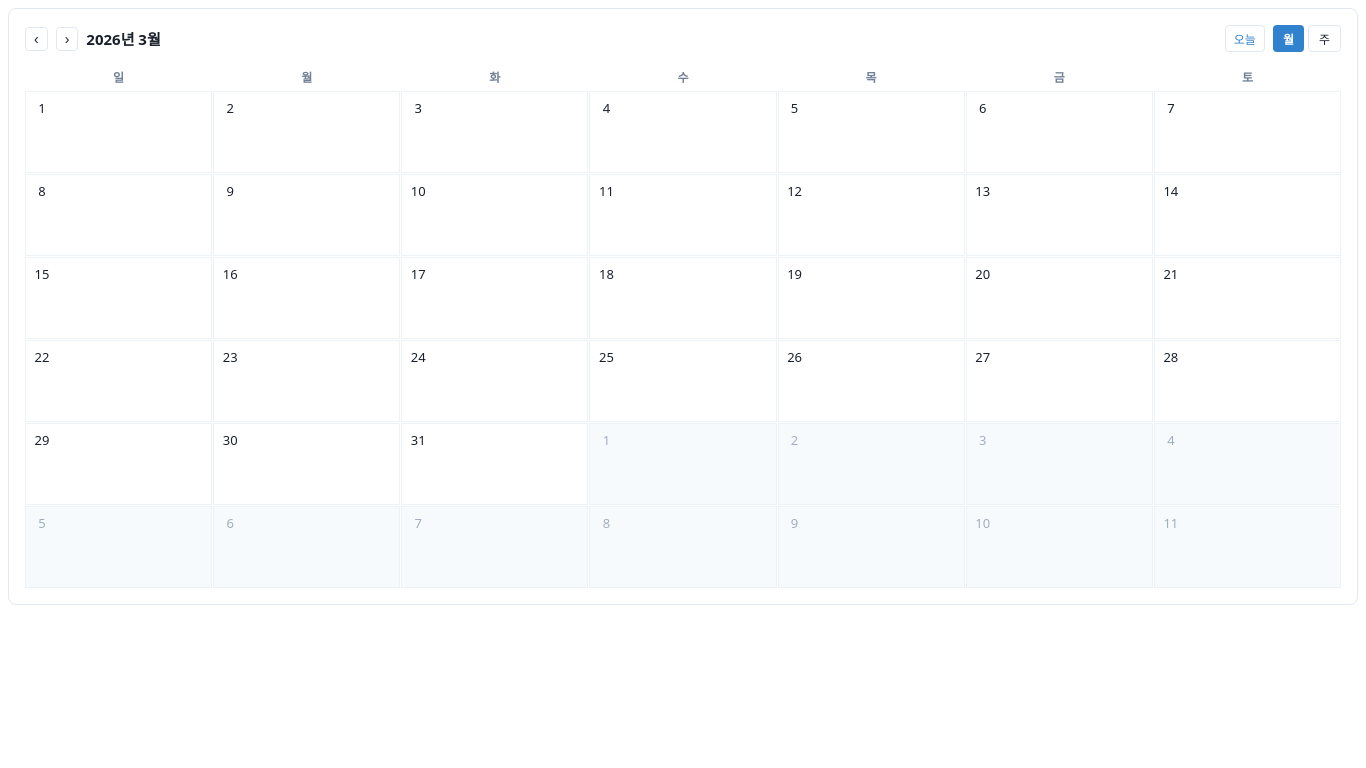
Test case: Calendar component › navigation › prev button navigates to previous month
Expected: the text "2026년 3월" is shown, [86,28,161,49]
Click the button named "이전": (36, 38) [25,26,48,50]
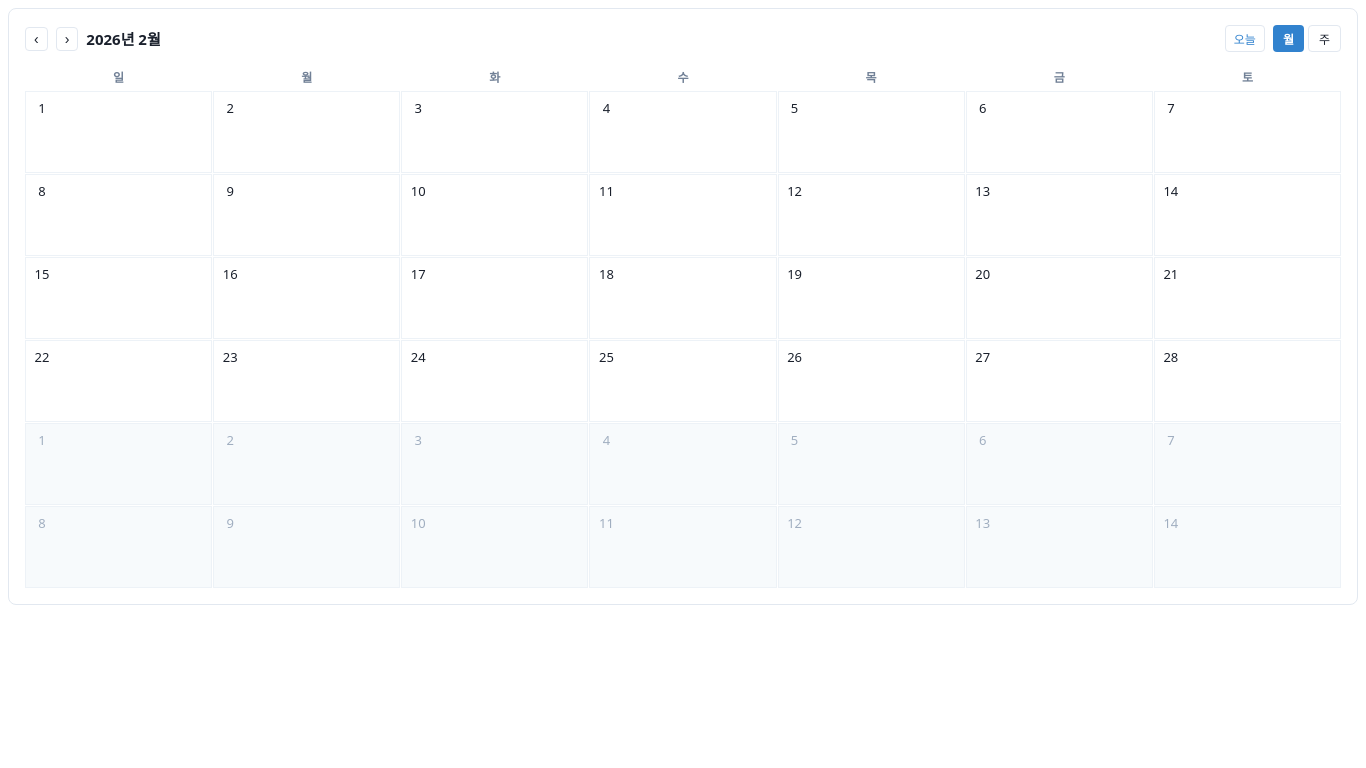
Expected: the text "2026년 2월" is shown, [86,28,161,49]
